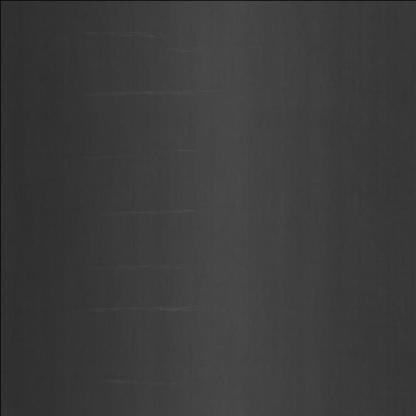waist_folding: (74, 21, 206, 387)
